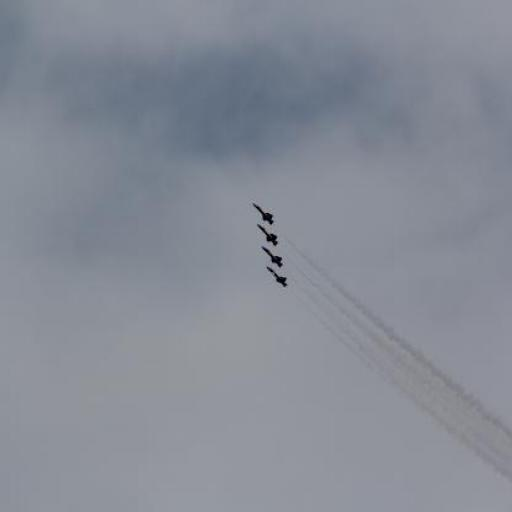aircraft: (266, 264, 288, 287), (261, 245, 284, 267), (256, 224, 278, 246), (252, 202, 274, 224)
